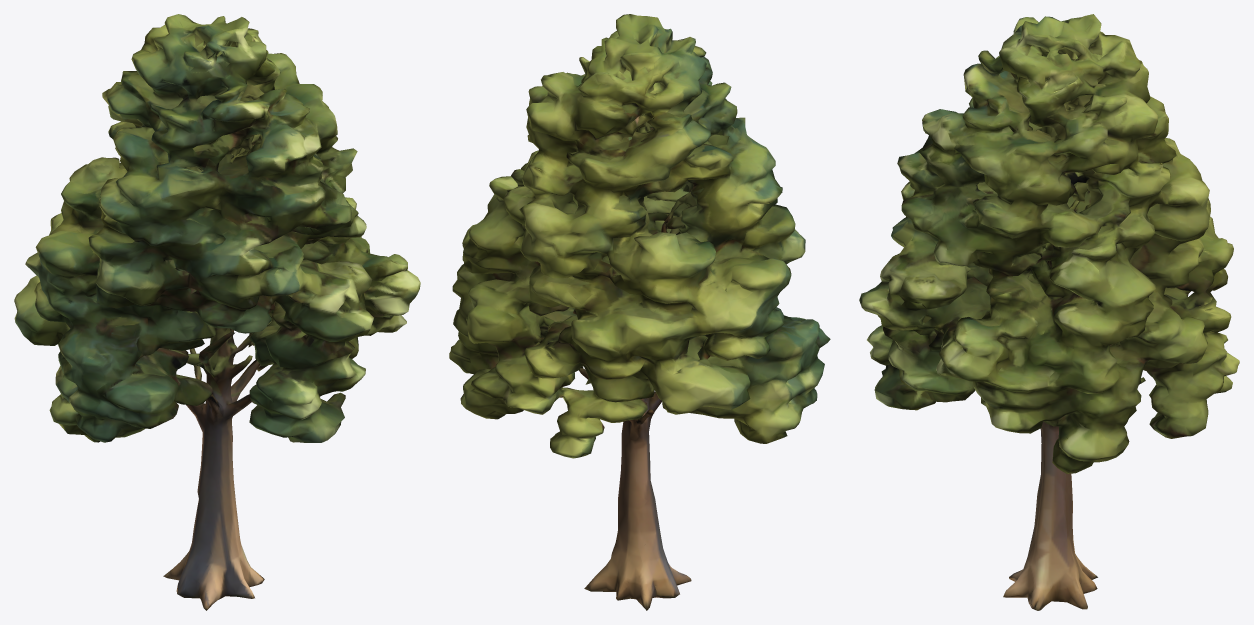
File: AI_PecanTree.fbx
3 views of the same model, side by side, from view 1: azimuth 30°, elevation 25°; view 2: azimuth 150°, elevation 25°; view 3: azimuth 270°, elevation 25° (orthographic).
Parts seen in each view (by area): view 1: Mesh_0; view 2: Mesh_0; view 3: Mesh_0.
Boxes of the visible parts, <box> form: Mesh_0: <box>14,14,420,610</box>; Mesh_0: <box>449,14,830,610</box>; Mesh_0: <box>859,14,1239,610</box>.
Bounding box in the file's own units: 121 × 199 × 120.
Materials: 1 (1 with a texture image).
